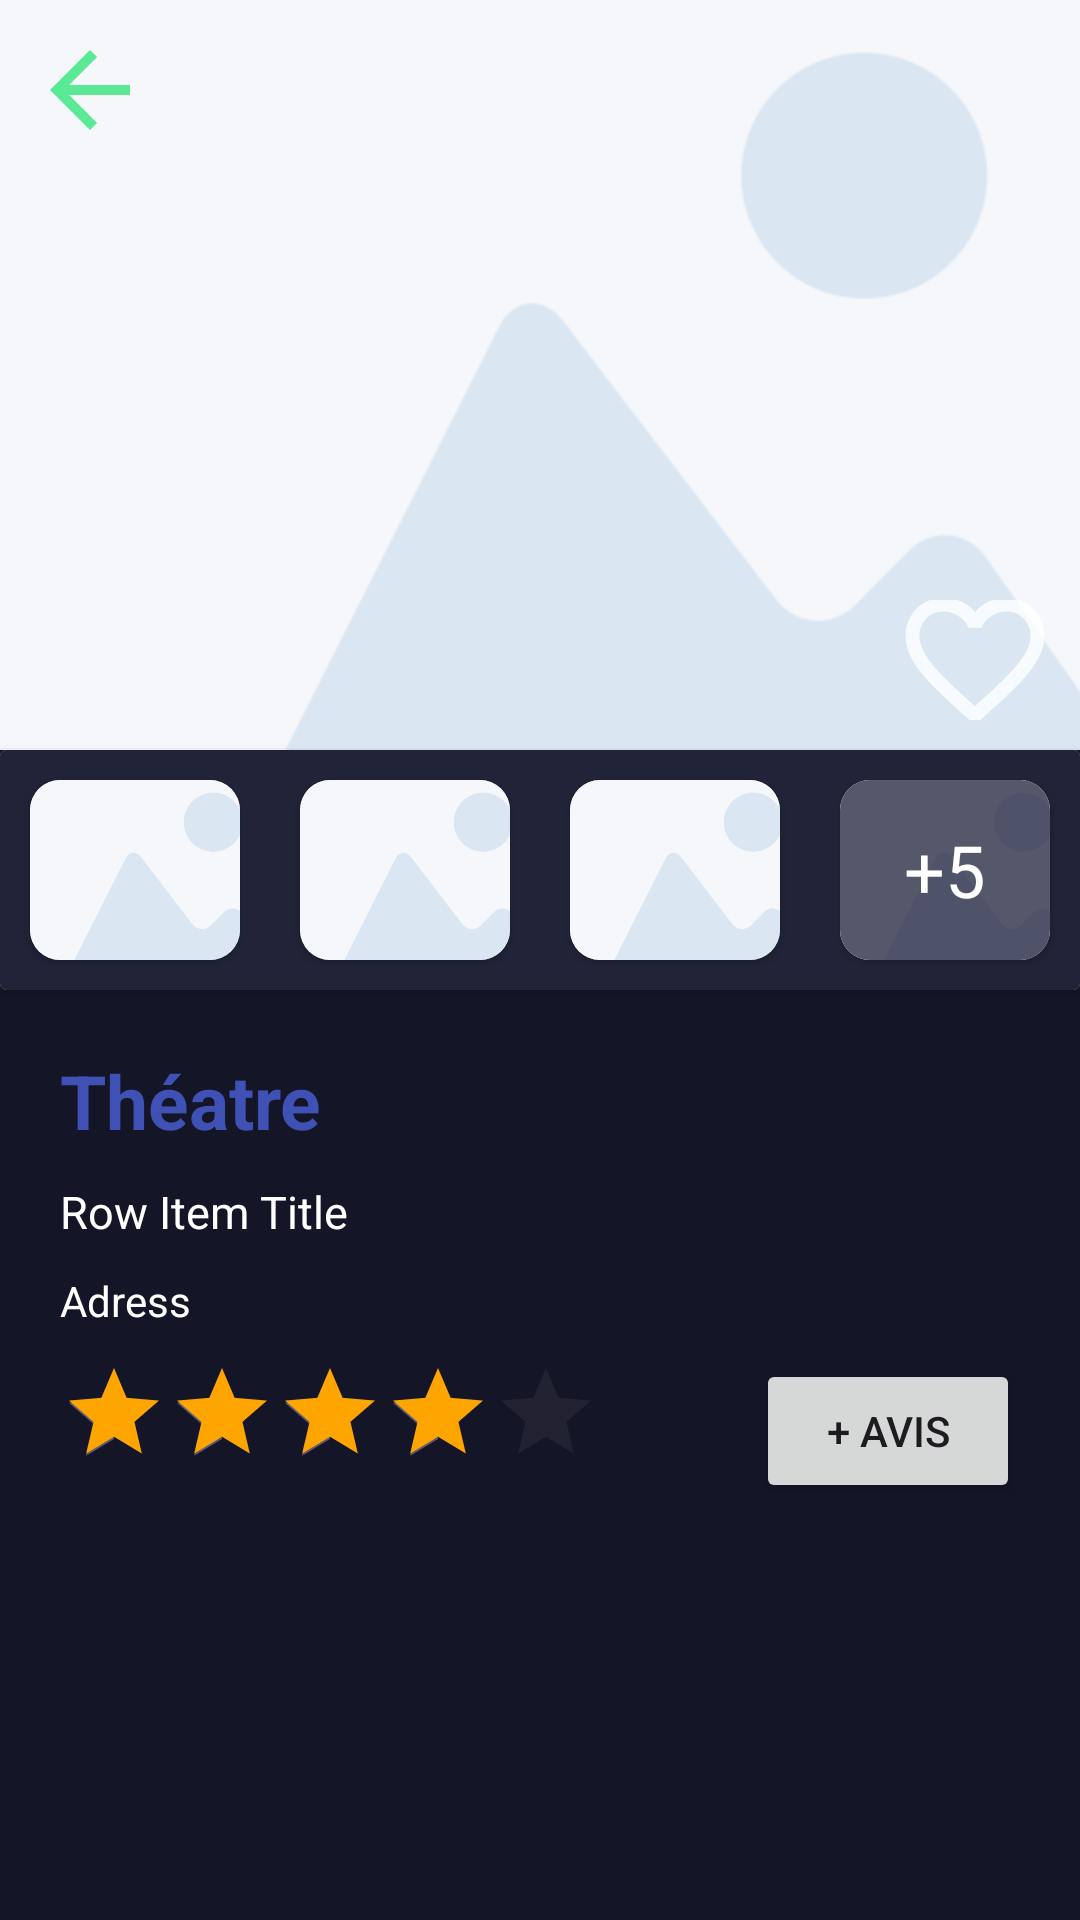

Point at icon controls on the screen. Image size 1080*1920, points as [x,y].
back action: [90,90]
unliked: [978,660]
